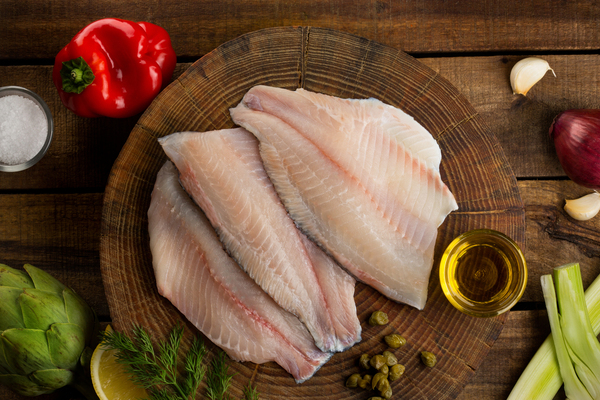bream-fish: (228, 86, 459, 311), (157, 127, 362, 355), (149, 161, 335, 382)
